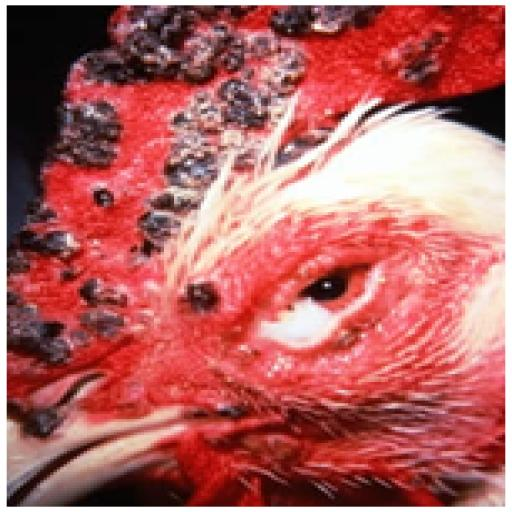disease: (44, 11, 472, 176), (176, 215, 468, 412), (5, 171, 171, 429)
